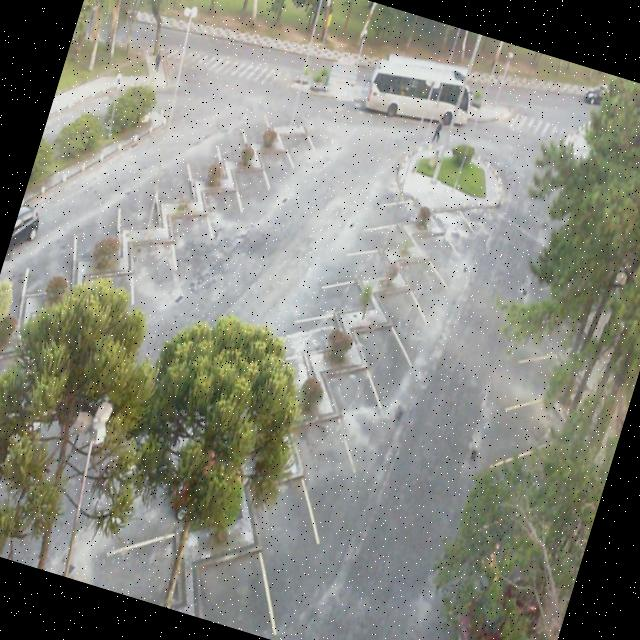empty: (89, 490, 210, 612), (232, 452, 342, 586), (188, 502, 296, 637), (275, 390, 371, 510), (314, 342, 400, 441), (22, 201, 94, 299), (339, 296, 419, 382), (70, 168, 142, 260), (274, 283, 354, 362), (120, 208, 187, 296), (370, 260, 444, 337), (113, 148, 179, 234), (316, 246, 385, 313), (163, 182, 222, 259), (394, 229, 460, 296), (328, 217, 398, 280), (193, 156, 253, 229), (152, 138, 211, 209), (414, 206, 476, 266), (361, 196, 424, 252), (186, 118, 239, 183), (228, 142, 282, 204), (253, 116, 307, 178), (432, 189, 490, 245), (238, 87, 290, 149), (214, 104, 265, 166), (374, 169, 434, 221), (278, 104, 324, 162)
